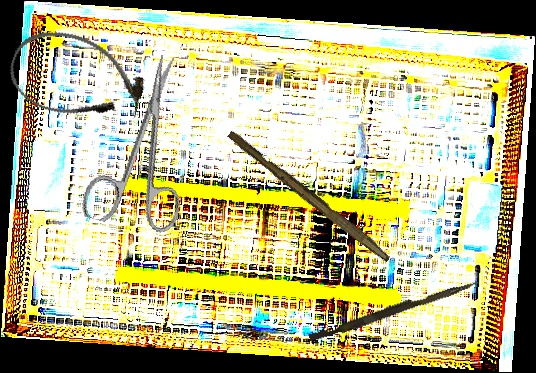Cannula: (0, 18, 154, 138)
Iris Scissors: (78, 44, 218, 241)
Pusher: (308, 273, 480, 347)
Scalpel Handle: (224, 129, 395, 263)
